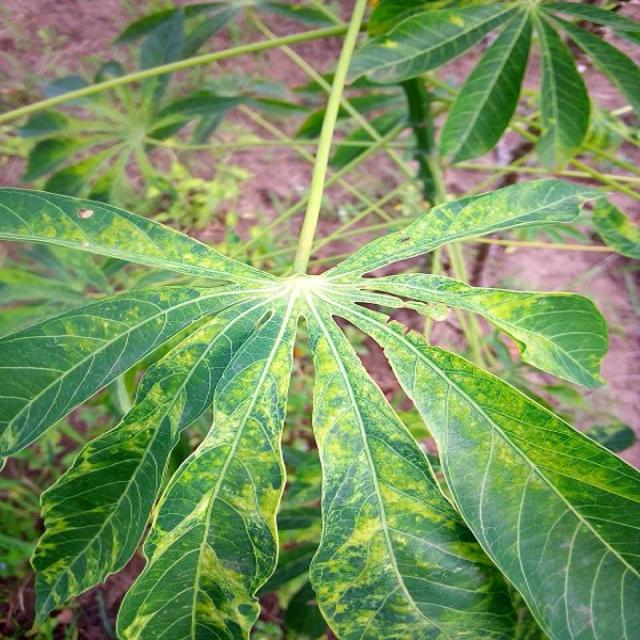cassava leaf: (2, 1, 639, 638), (378, 316, 640, 639)
